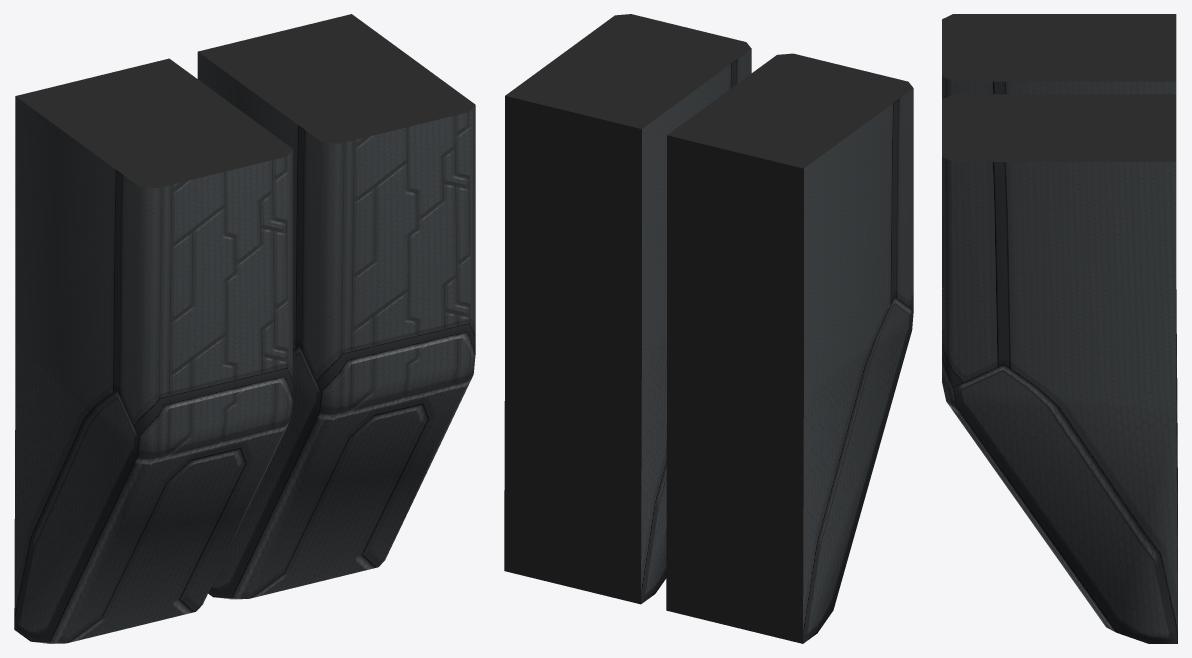
File: Roof block 01.fbx
The picture shows the model from 3 angles, left to right: view 1: azimuth 30°, elevation 25°; view 2: azimuth 150°, elevation 25°; view 3: azimuth 270°, elevation 25°; orthographic projection. The views are drawn at different scales.
Parts seen in each view (by area): view 1: Roof block 01; view 2: Roof block 01; view 3: Roof block 01.
Part boxes in pixels (left/top/right/bottom): Roof block 01: left=14, top=14, right=475, bottom=643; Roof block 01: left=504, top=14, right=913, bottom=643; Roof block 01: left=942, top=14, right=1177, bottom=643.
Size of the model in its own units: 415 by 630 by 279.
